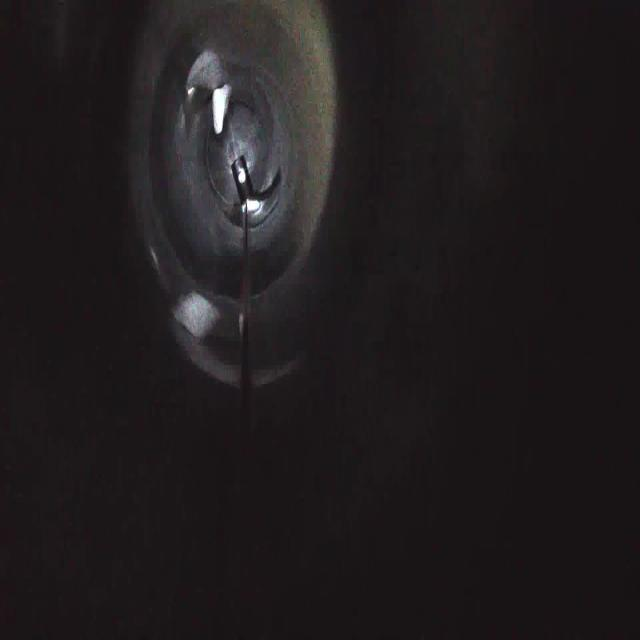impurity: (210, 76, 235, 140)
